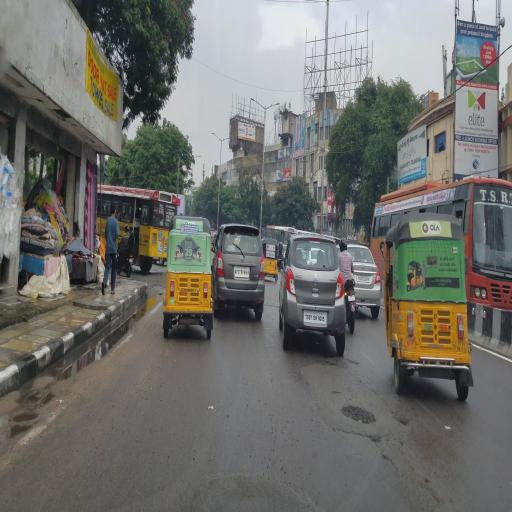street_light_0: (242, 92, 264, 112), (262, 95, 285, 114)
